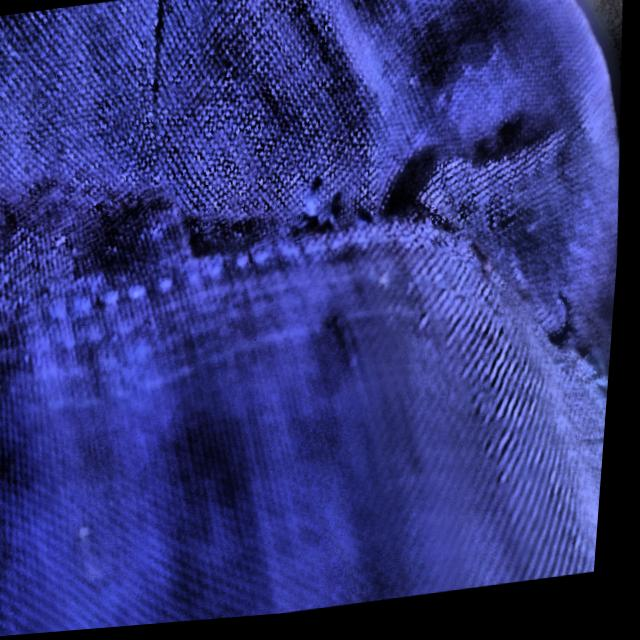Stitch: (161, 108, 426, 289)
